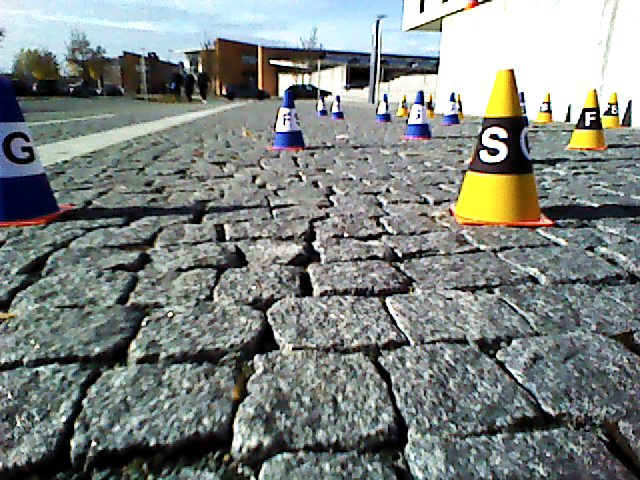bluecone: (1, 73, 54, 216), (275, 91, 306, 148), (408, 91, 430, 138)
yellowcone: (458, 69, 541, 220), (568, 90, 605, 148), (602, 93, 621, 126), (537, 93, 553, 121)
